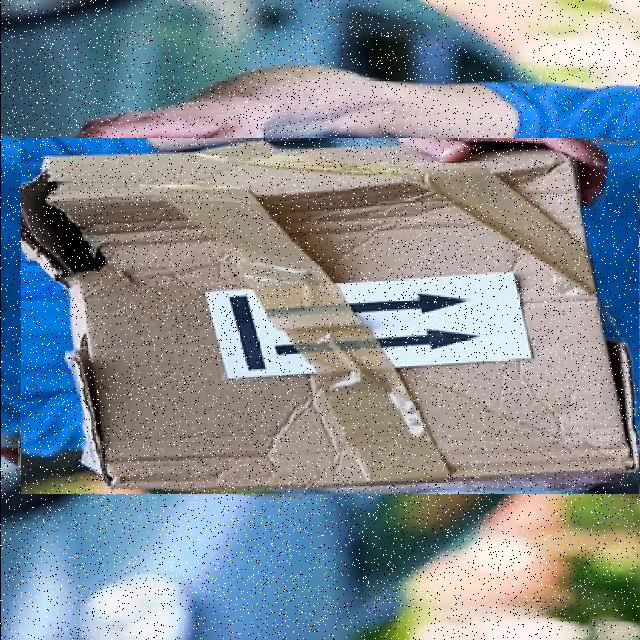defect: (20, 138, 638, 494)
